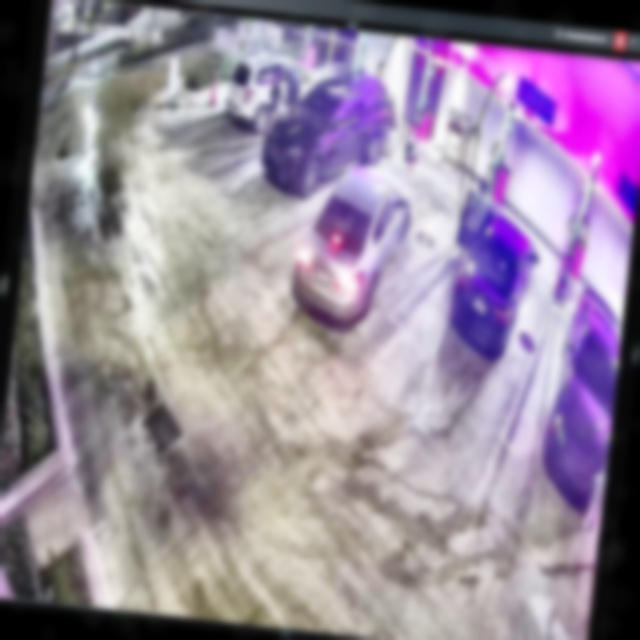Car: (288, 152, 415, 331), (259, 62, 396, 200), (445, 189, 547, 359)
